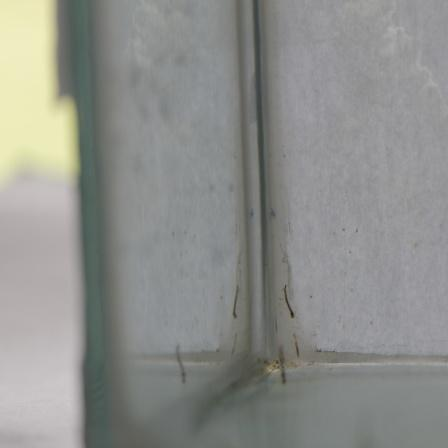Jentik-Nyamuk: (279, 282, 299, 321)
